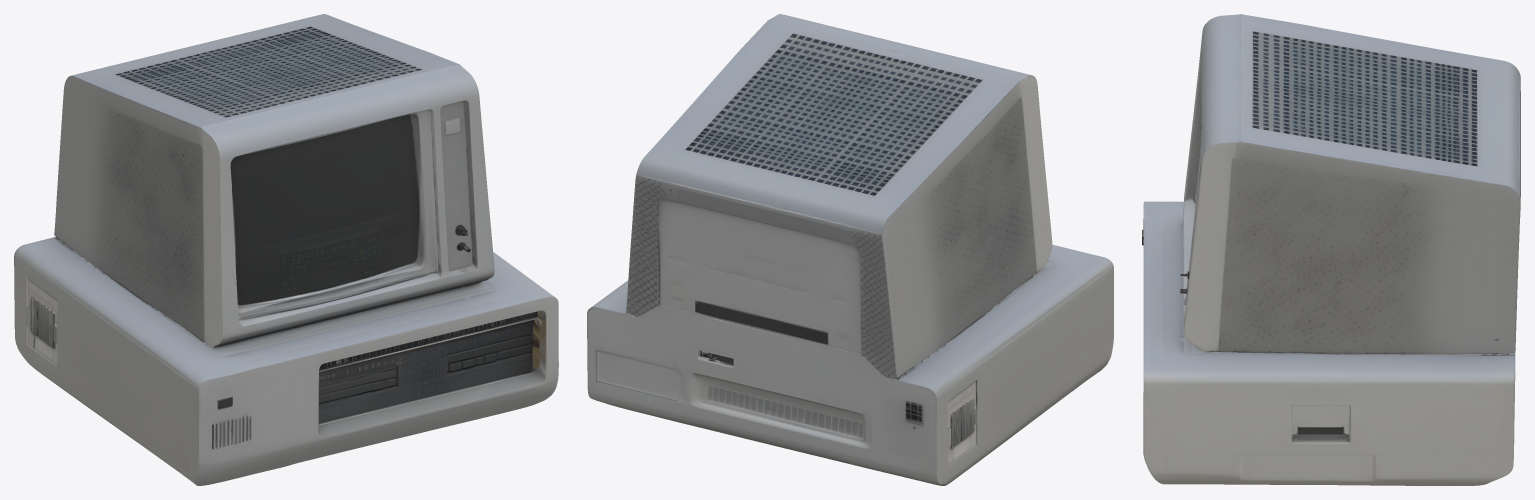
File: monitor2-shaded.glb
3 views of the same model, side by side, from view 1: azimuth 30°, elevation 25°; view 2: azimuth 150°, elevation 25°; view 3: azimuth 270°, elevation 25° (orthographic). The views are drawn at different scales.
Parts seen in each view (by area): view 1: model; view 2: model; view 3: model.
Part boxes in pixels (bbox=[...]): model: bbox=[14, 14, 558, 485]; model: bbox=[587, 14, 1113, 485]; model: bbox=[1142, 14, 1520, 485].
Size of the model in its own units: 1.9 by 1.66 by 1.71.
Materials: 1 (1 with a texture image).
